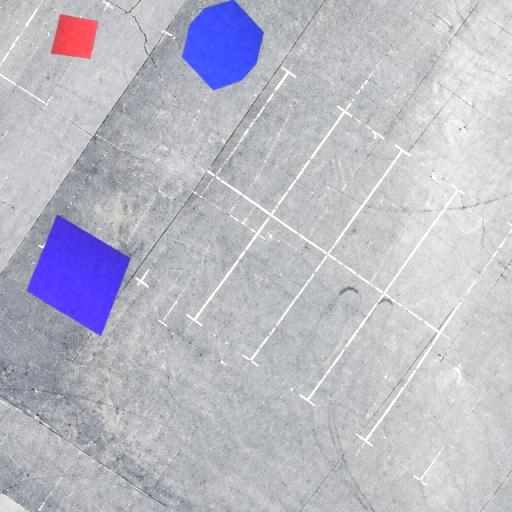BLUE_SQUARE: (26, 214, 131, 336)
RED_SQUARE: (50, 14, 100, 59)
